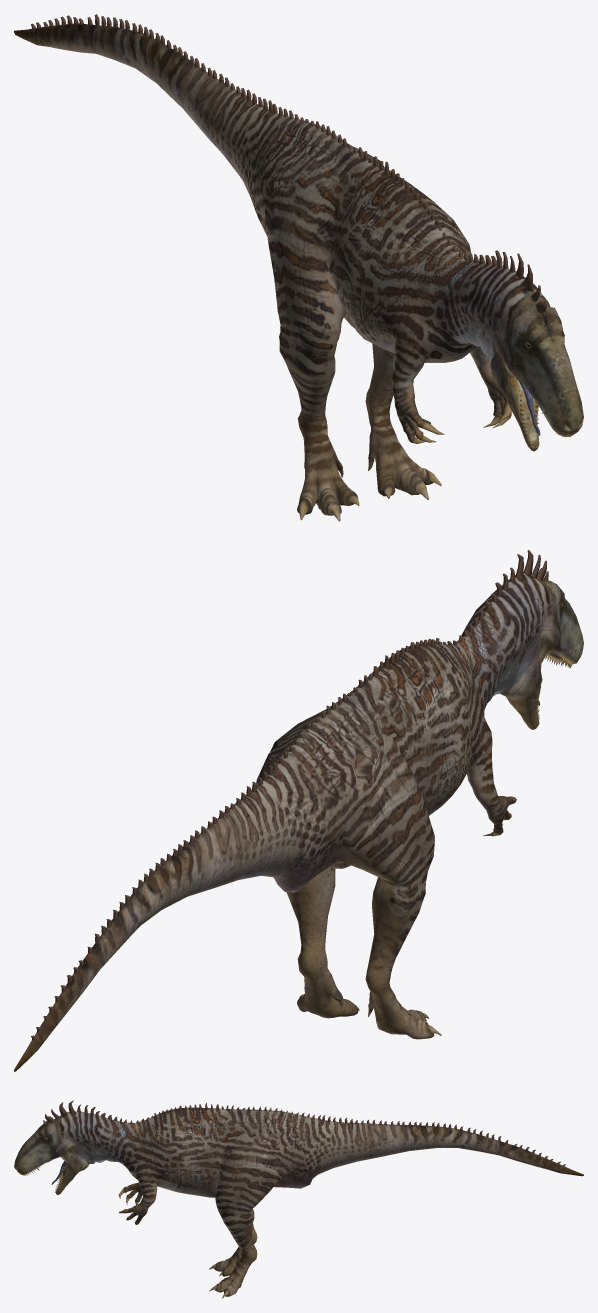
The model's file is Carcharodontosaurus.glb.
3 renders of one model, top to bottom at view 1: azimuth 30°, elevation 25°; view 2: azimuth 150°, elevation 25°; view 3: azimuth 270°, elevation 25°, orthographic. The views are drawn at different scales.
Parts seen in each view (by area): view 1: Charlie; view 2: Charlie; view 3: Charlie.
Part boxes in pixels (<box>): Charlie: <box>14,14,583,521</box>; Charlie: <box>14,550,583,1071</box>; Charlie: <box>14,1100,583,1298</box>.
Size of the model in its own units: 0.2665 by 0.6436 by 1.84.
Materials: 1 (1 with a texture image).
